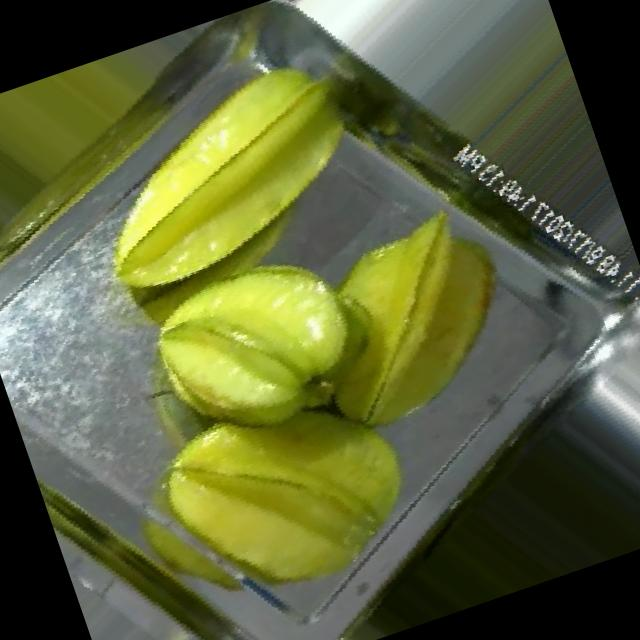fruit: (29, 8, 428, 362), (93, 320, 481, 640), (76, 172, 434, 508), (234, 152, 576, 489)
